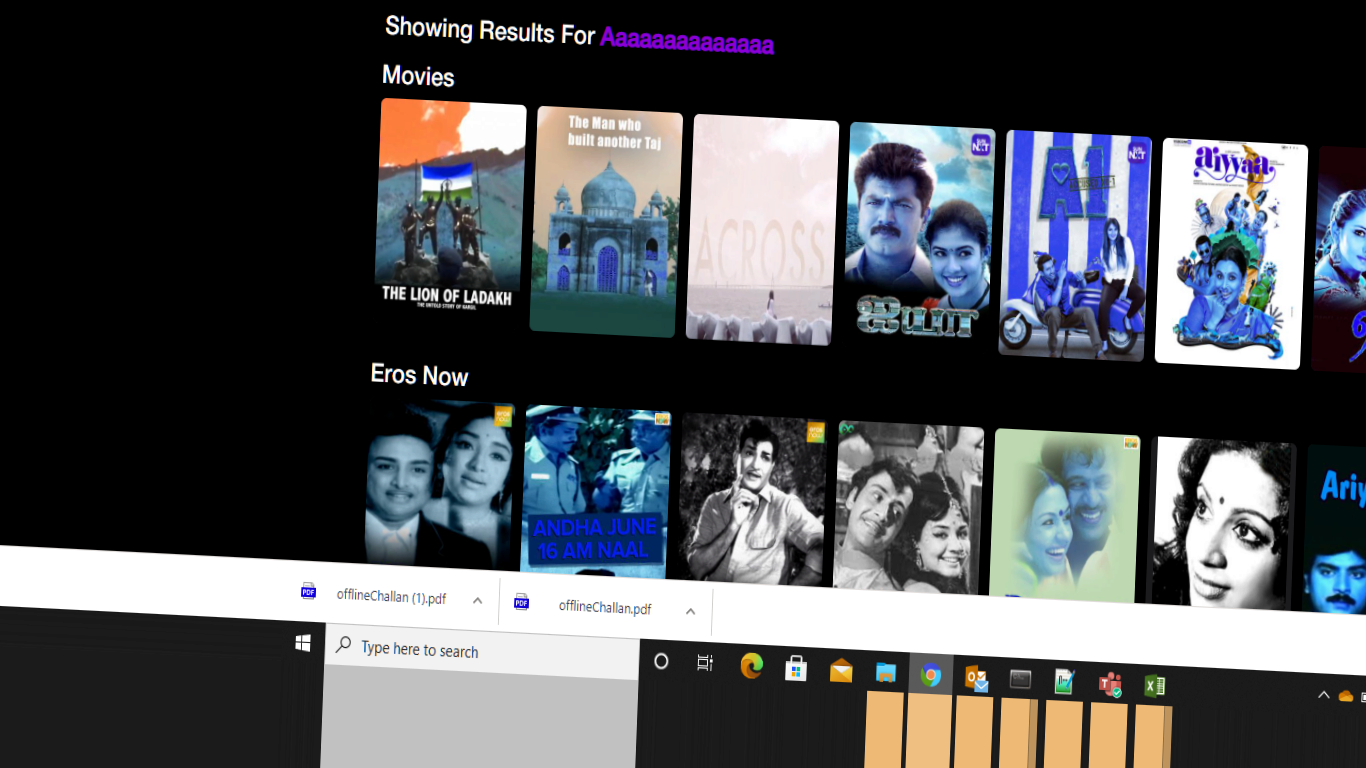noresultsfound: (337, 5, 798, 71)
